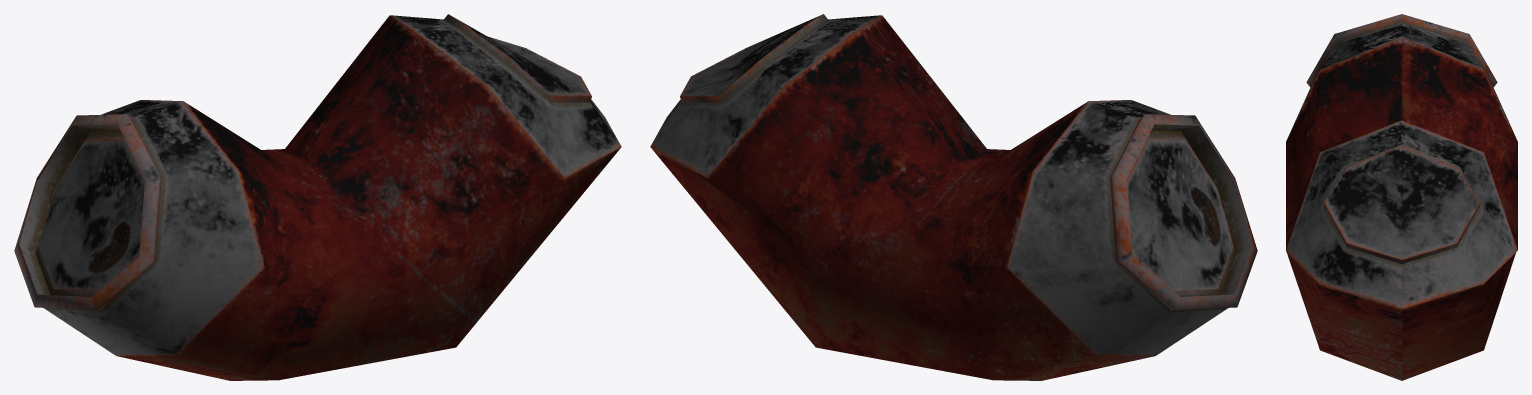
The model's file is CocaCan.fbx.
3 views of the same model, side by side, from view 1: azimuth 30°, elevation 25°; view 2: azimuth 150°, elevation 25°; view 3: azimuth 270°, elevation 25° (orthographic). The views are drawn at different scales.
Visible parts, largest first — view 1: Can_03_GEO; view 2: Can_03_GEO; view 3: Can_03_GEO.
Boxes of the visible parts, x1=… form: Can_03_GEO: x1=14, y1=14, x2=621, y2=380; Can_03_GEO: x1=650, y1=14, x2=1257, y2=380; Can_03_GEO: x1=1286, y1=14, x2=1517, y2=380.
Size of the model in its own units: 14.65 by 7.49 by 6.17.
Materials: 1 (1 with a texture image).
